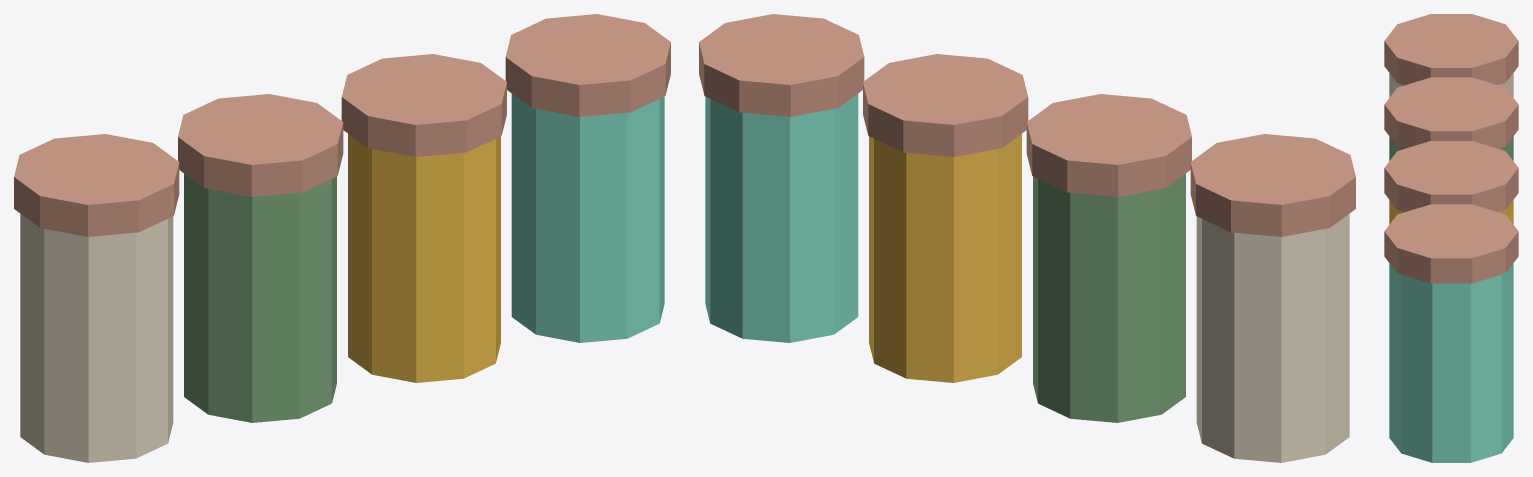
The picture shows the model from 3 angles, left to right: view 1: azimuth 30°, elevation 25°; view 2: azimuth 150°, elevation 25°; view 3: azimuth 270°, elevation 25°; orthographic projection. The views are drawn at different scales.
Parts seen in each view (by area): view 1: Storage jar.003, Storage jar, Storage jar.001, Storage jar.002, Jar lid, Jar lid.001, Jar lid.003, Jar lid.002; view 2: Storage jar.003, Storage jar, Storage jar.001, Storage jar.002, Jar lid, Jar lid.001, Jar lid.003, Jar lid.002; view 3: Storage jar.003, Jar lid.003, Jar lid.001, Jar lid.002, Jar lid, Storage jar.001, Storage jar.002, Storage jar.
Boxes of the visible parts, left/top/right/bottom form: Storage jar.003: left=511, top=94, right=664, bottom=342; Storage jar: left=20, top=214, right=173, bottom=462; Storage jar.001: left=184, top=173, right=336, bottom=422; Storage jar.002: left=348, top=134, right=500, bottom=382; Jar lid: left=14, top=134, right=179, bottom=236; Jar lid.001: left=178, top=94, right=343, bottom=196; Jar lid.003: left=505, top=14, right=670, bottom=116; Jar lid.002: left=341, top=54, right=506, bottom=156; Storage jar.003: left=705, top=94, right=858, bottom=342; Storage jar: left=1196, top=214, right=1349, bottom=462; Storage jar.001: left=1033, top=173, right=1185, bottom=422; Storage jar.002: left=869, top=134, right=1021, bottom=382; Jar lid: left=1190, top=134, right=1355, bottom=236; Jar lid.001: left=1026, top=94, right=1191, bottom=196; Jar lid.003: left=699, top=14, right=864, bottom=116; Jar lid.002: left=863, top=54, right=1028, bottom=156; Storage jar.003: left=1389, top=263, right=1513, bottom=462; Jar lid.003: left=1384, top=204, right=1518, bottom=283; Jar lid.001: left=1384, top=77, right=1518, bottom=148; Jar lid.002: left=1384, top=141, right=1518, bottom=211; Jar lid: left=1384, top=14, right=1518, bottom=85; Storage jar.001: left=1389, top=136, right=1513, bottom=160; Storage jar.002: left=1389, top=200, right=1513, bottom=224; Storage jar: left=1389, top=73, right=1513, bottom=97.
Size of the model in its own units: 0.5774 by 0.228 by 0.134.
Materials: 1 (1 with a texture image).
